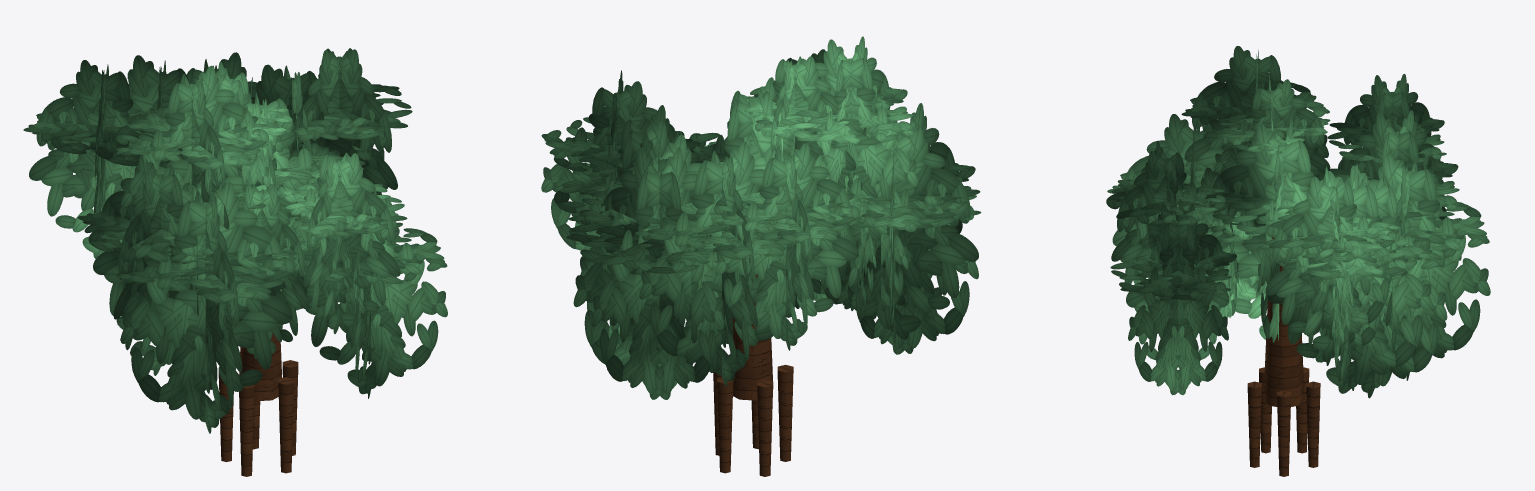
Rendered from flora_willow.glb.
3 views of the same model, side by side, from view 1: azimuth 30°, elevation 25°; view 2: azimuth 150°, elevation 25°; view 3: azimuth 270°, elevation 25° (orthographic). The views are drawn at different scales.
Visible parts, largest first — view 1: Crown, Trunk; view 2: Crown, Trunk; view 3: Crown, Trunk.
Part boxes in pixels (box(x1,y1,x2,y2)): Crown: box(23, 48, 447, 433); Trunk: box(218, 333, 298, 476); Crown: box(541, 36, 981, 399); Trunk: box(713, 274, 793, 476); Crown: box(1106, 46, 1490, 398); Trunk: box(1247, 237, 1320, 476).
Size of the model in its own units: 6.26 by 6.11 by 6.56.
Materials: 2 (2 with a texture image).
